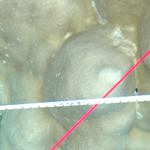alive: (3, 2, 147, 148)
